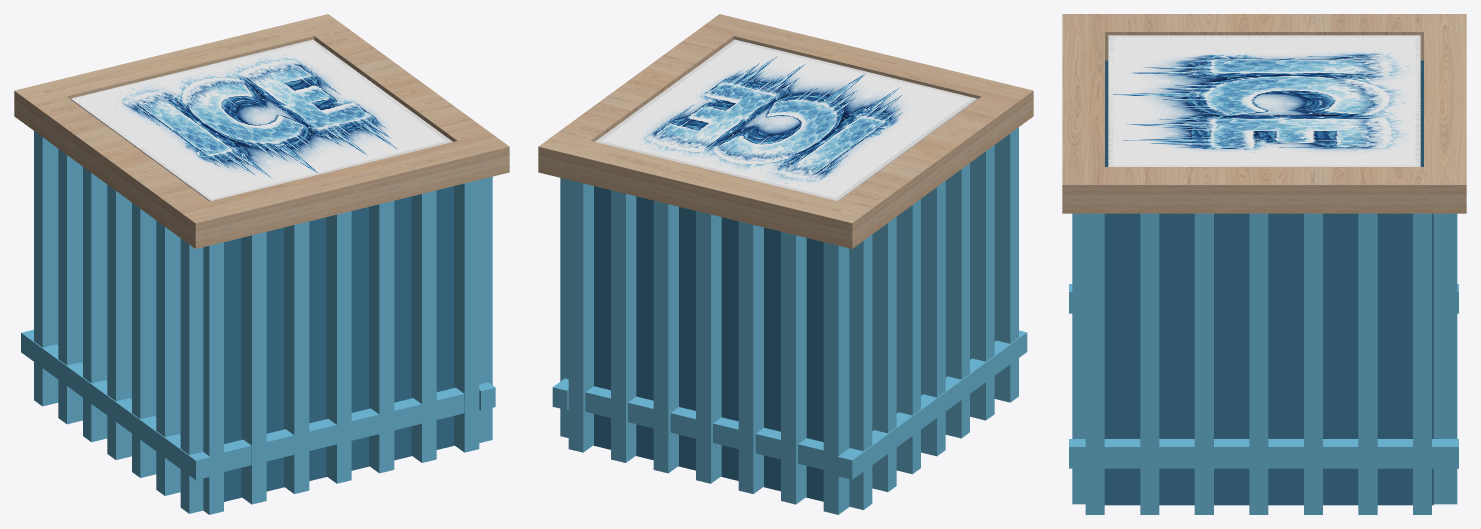
File: ice counter.fbx
The picture shows the model from 3 angles, left to right: view 1: azimuth 30°, elevation 25°; view 2: azimuth 150°, elevation 25°; view 3: azimuth 270°, elevation 25°; orthographic projection. The views are drawn at different scales.
Parts seen in each view (by area): view 1: Cube.002, Cube.001, Plane.001, Cube, Plane; view 2: Cube.002, Cube.001, Plane.001, Cube, Plane; view 3: Cube.002, Cube, Plane.001, Cube.001, Plane.
Boxes of the visible parts, left/top/right/bottom form: Cube.002: left=21, top=131, right=495, bottom=514; Cube.001: left=14, top=14, right=509, bottom=248; Plane.001: left=72, top=40, right=452, bottom=200; Cube: left=224, top=186, right=454, bottom=501; Plane: left=70, top=39, right=452, bottom=201; Cube.002: left=552, top=127, right=1027, bottom=514; Cube.001: left=538, top=14, right=1033, bottom=248; Plane.001: left=595, top=39, right=975, bottom=200; Cube: left=593, top=186, right=823, bottom=501; Plane: left=595, top=39, right=977, bottom=201; Cube.002: left=1069, top=213, right=1458, bottom=514; Cube: left=1104, top=60, right=1433, bottom=505; Plane.001: left=1108, top=35, right=1420, bottom=166; Cube.001: left=1062, top=14, right=1466, bottom=213; Plane: left=1108, top=35, right=1420, bottom=166.
Bounding box in the file's own units: 239 × 218 × 239.
